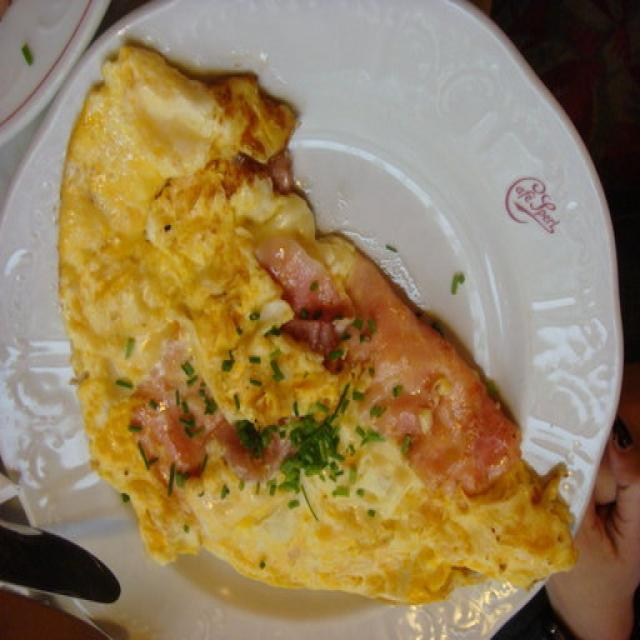telur_ayam_dadar: (56, 44, 580, 608)
